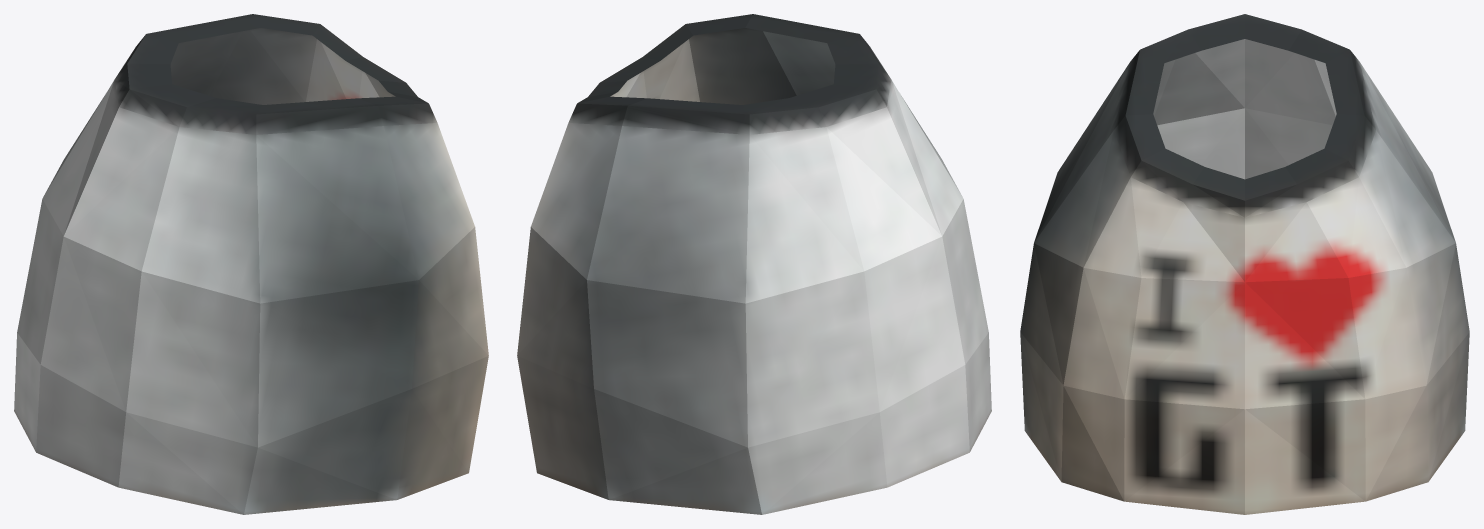
Rendered from I LOVE GT TEE.fbx.
3 views of the same model, side by side, from view 1: azimuth 30°, elevation 25°; view 2: azimuth 150°, elevation 25°; view 3: azimuth 270°, elevation 25° (orthographic). The views are drawn at different scales.
Parts seen in each view (by area): view 1: I_LOVE_GT_TEE; view 2: I_LOVE_GT_TEE; view 3: I_LOVE_GT_TEE.
Boxes of the visible parts, bbox=[...] form: I_LOVE_GT_TEE: bbox=[14, 14, 488, 514]; I_LOVE_GT_TEE: bbox=[517, 14, 991, 514]; I_LOVE_GT_TEE: bbox=[1020, 14, 1469, 514].
Size of the model in its own units: 36.03 by 32.96 by 37.09.
